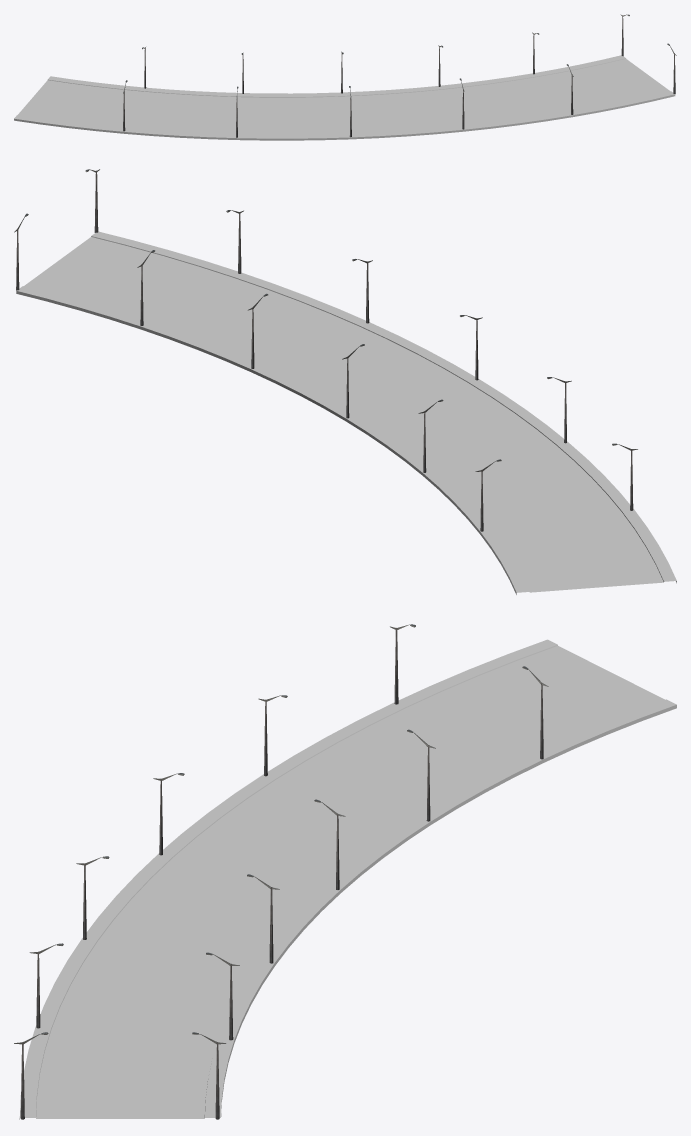
File: Big_Road_50.FBX
3 views of the same model, one above another, from view 1: azimuth 30°, elevation 25°; view 2: azimuth 150°, elevation 25°; view 3: azimuth 270°, elevation 25° (orthographic). The views are drawn at different scales.
Parts seen in each view (by area): view 1: Big_Road_50, city_light009; view 2: Big_Road_50, city_light009; view 3: Big_Road_50, city_light009.
Boxes of the visible parts, x1,y1,x2,y2 form: Big_Road_50: [14, 55, 675, 140]; city_light009: [123, 14, 676, 137]; Big_Road_50: [16, 231, 676, 594]; city_light009: [14, 169, 637, 531]; Big_Road_50: [19, 639, 676, 1119]; city_light009: [14, 624, 548, 1119].
Bounding box in the file's own units: 128 × 74.72 × 11.04.
